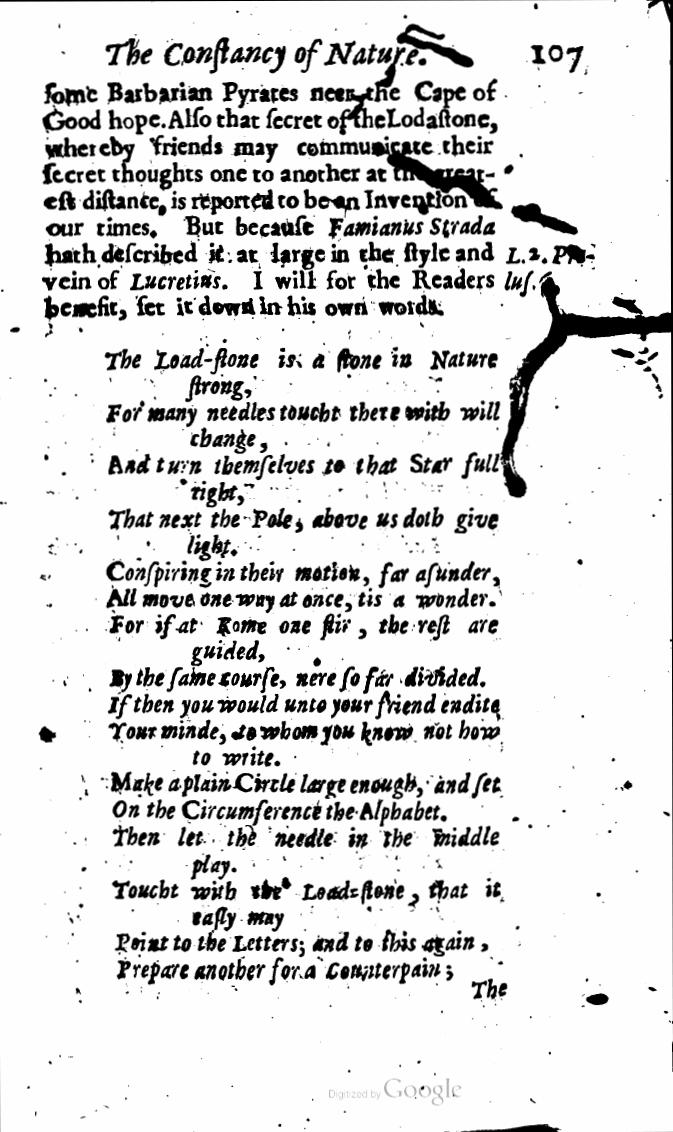bottom_p: (44, 77, 497, 317)
catchword: (466, 979, 510, 1007)
header: (103, 33, 429, 74)
page_num: (523, 37, 589, 76)
print_marg: (497, 240, 573, 299)
top_p: (96, 344, 509, 983)
